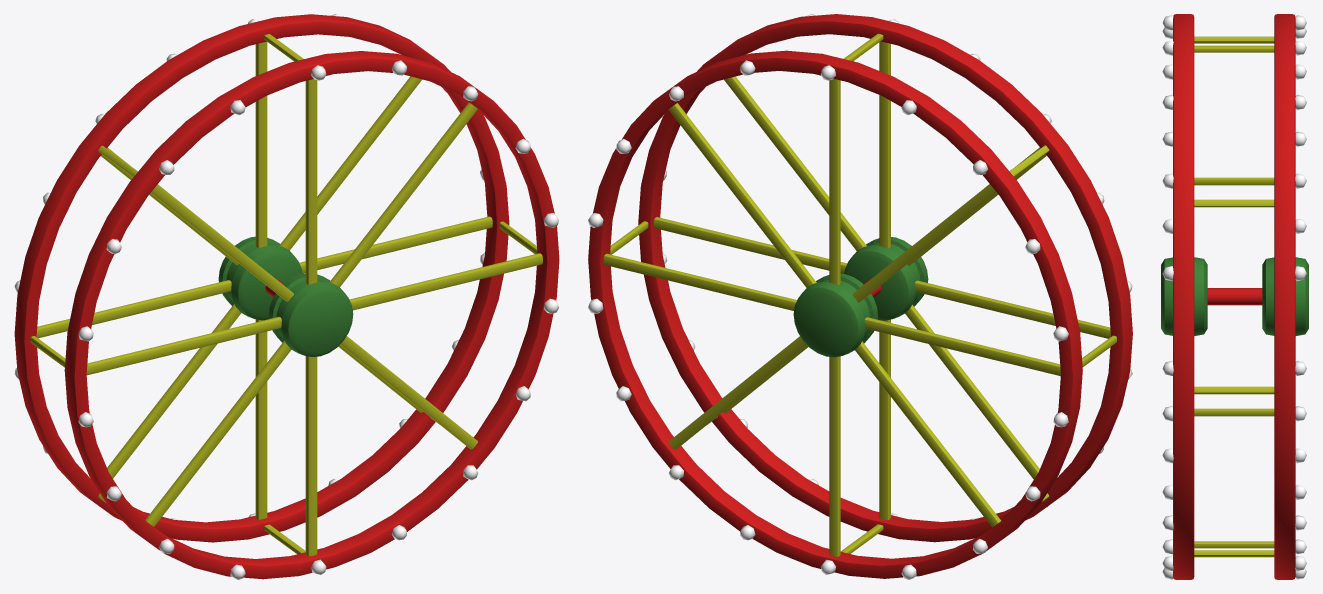
File: SM_ferris_wheel.fbx
3 renders of one model, left to right at view 1: azimuth 30°, elevation 25°; view 2: azimuth 150°, elevation 25°; view 3: azimuth 270°, elevation 25°, orthographic.
Parts seen in each view (by area): view 1: Cylinder51262; view 2: Cylinder51262; view 3: Cylinder51262.
Boxes of the visible parts, <box> form: Cylinder51262: <box>14,14,559,579</box>; Cylinder51262: <box>588,14,1132,579</box>; Cylinder51262: <box>1161,14,1308,579</box>.
Bounding box in the file's own units: 347 × 347 × 90.4.
